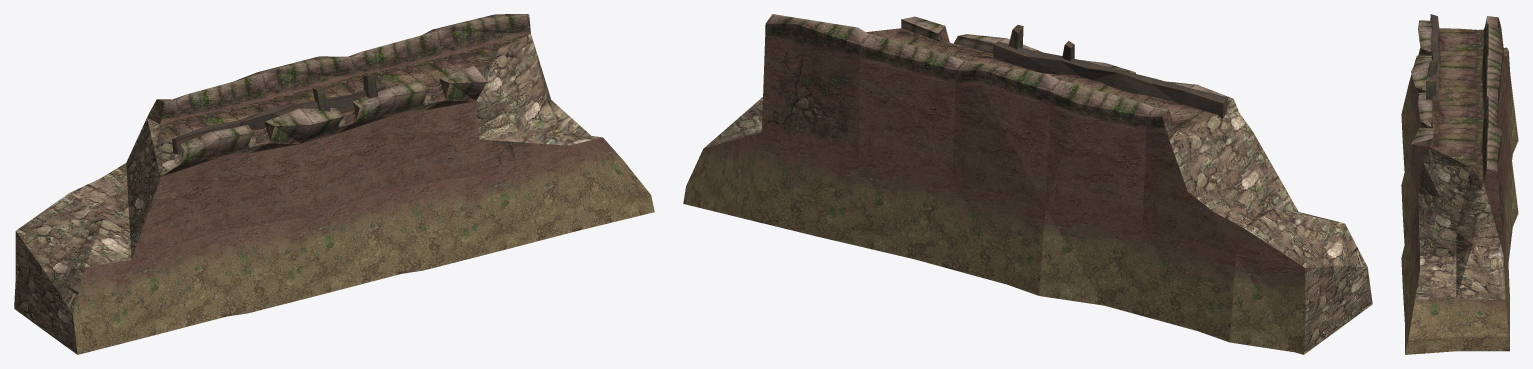
Rendered from C1SMOFORT2_H.obj.
The picture shows the model from 3 angles, left to right: view 1: azimuth 30°, elevation 25°; view 2: azimuth 150°, elevation 25°; view 3: azimuth 270°, elevation 25°; orthographic projection. The views are drawn at different scales.
Parts seen in each view (by area): view 1: Node 0; view 2: Node 0; view 3: Node 0.
Part boxes in pixels (x1=…): Node 0: x1=14, y1=14, x2=654, y2=354; Node 0: x1=683, y1=14, x2=1372, y2=354; Node 0: x1=1401, y1=14, x2=1518, y2=354.
Bounding box in the file's own units: 33.04 × 10.53 × 6.8.
4 materials, 4 textured.
